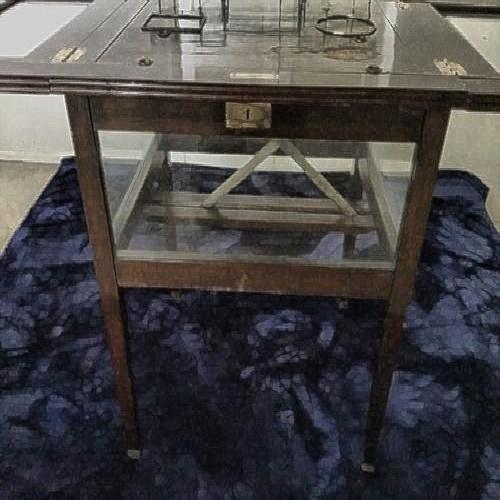cabinet: (38, 9, 469, 354)
